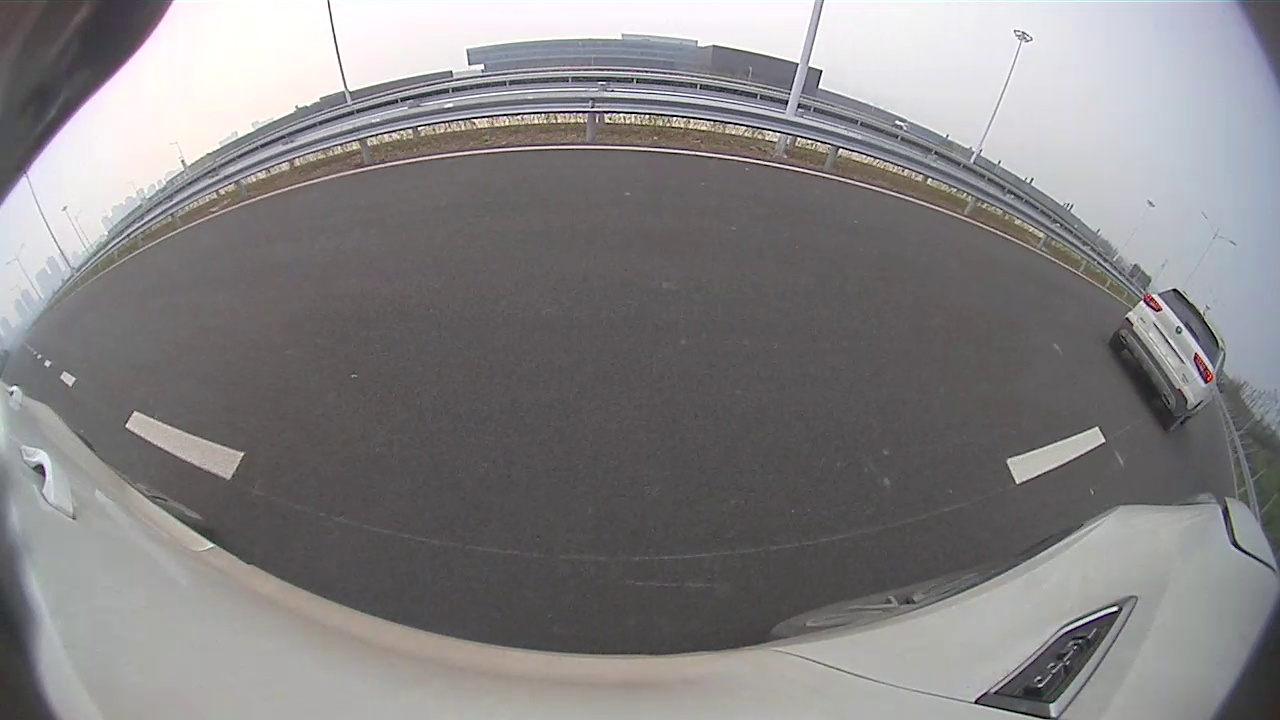car: (1109, 289, 1225, 432)
